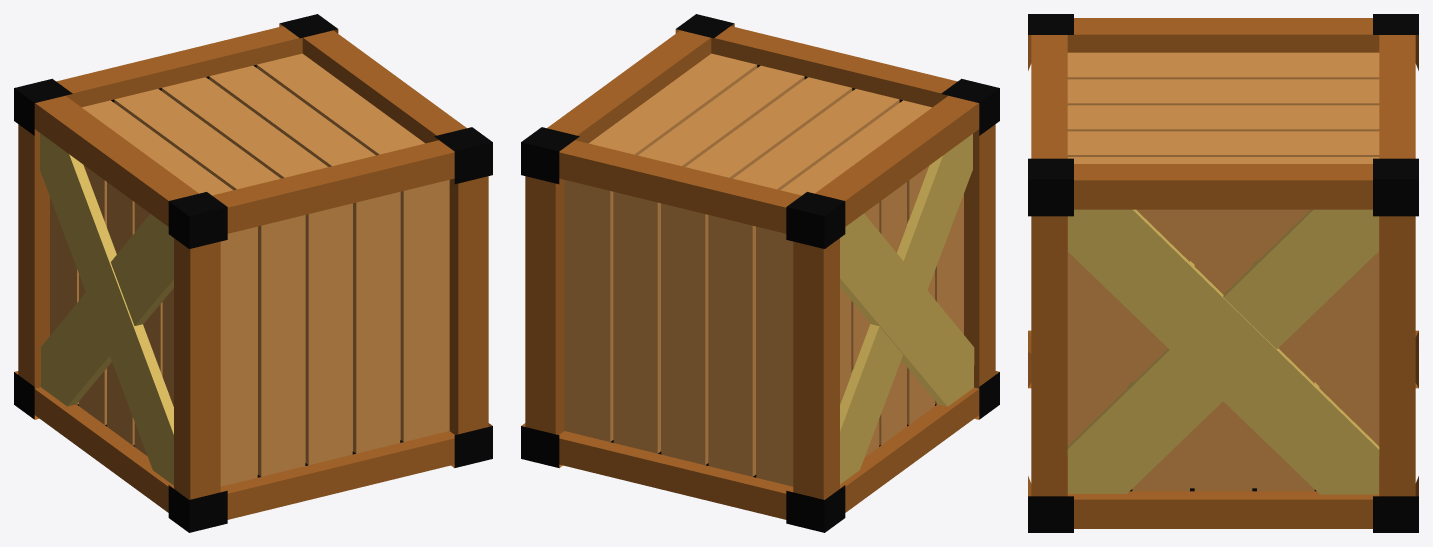
File: CaixaMadeira.fbx
3 renders of one model, left to right at view 1: azimuth 30°, elevation 25°; view 2: azimuth 150°, elevation 25°; view 3: azimuth 270°, elevation 25°, orthographic. The views are drawn at different scales.
Visible parts, largest first — view 1: Cube.001; view 2: Cube.001; view 3: Cube.001.
Part boxes in pixels (x1,y1,x2,y2): Cube.001: (14, 14, 492, 532); Cube.001: (521, 14, 999, 532); Cube.001: (1028, 14, 1418, 532).
Bounding box in the file's own units: 204 × 203 × 203.
